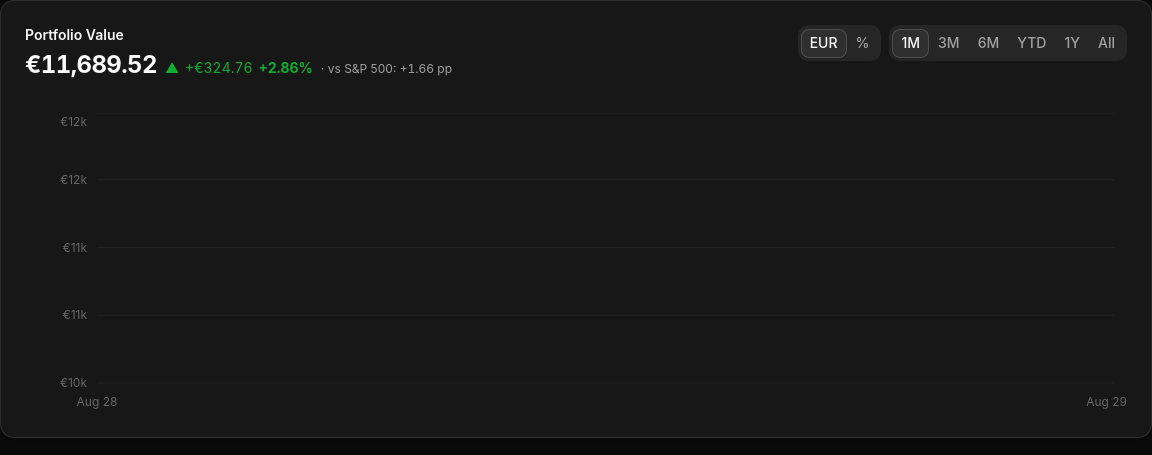
Test: PerformanceChart › shows "Performance" title when in % mode and "Portfolio Value" in value mode
Check: the text "Portfolio Value" is shown, box [25,25,124,45]
Click the tab "%": (863, 43) [847,28,878,58]
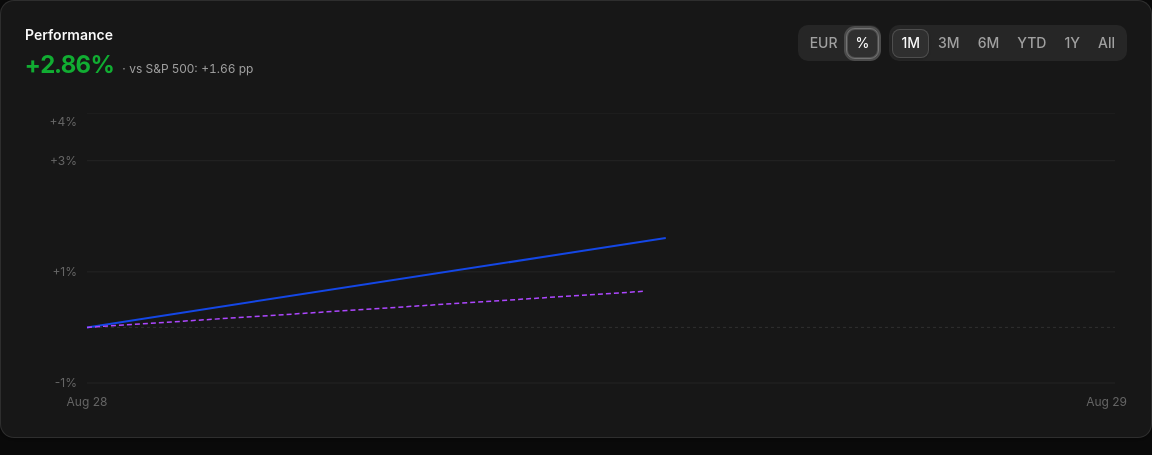
Check: the text "Performance" is shown, box [25,25,113,45]
